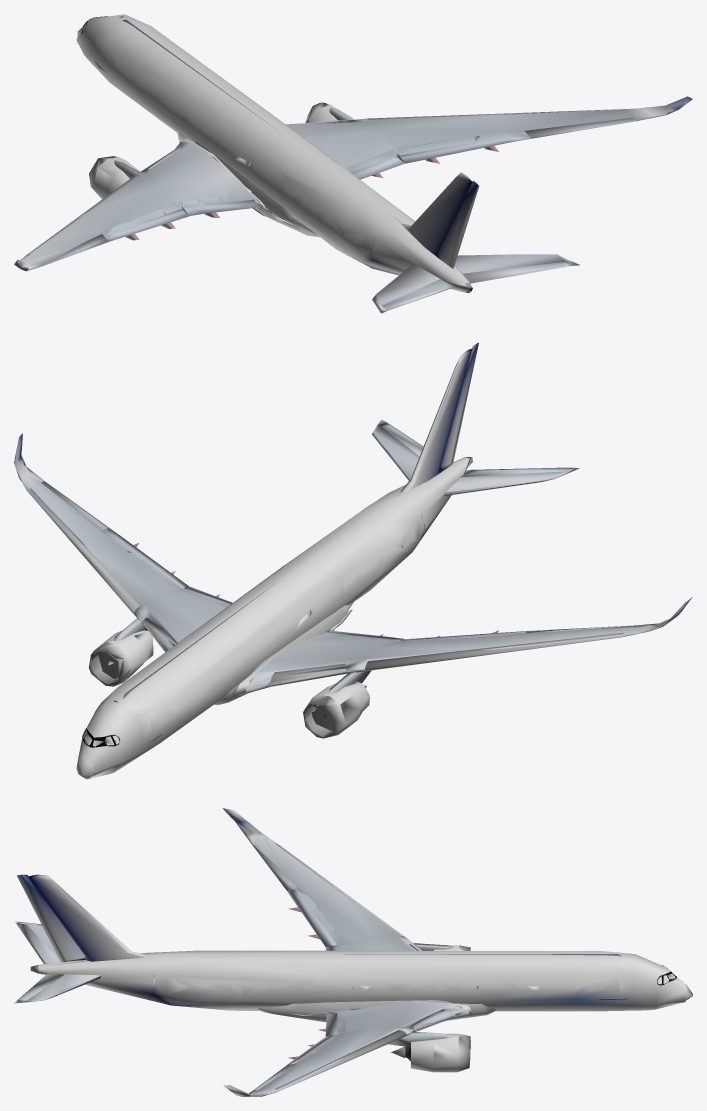
3 views of the same model, one above another, from view 1: azimuth 30°, elevation 25°; view 2: azimuth 150°, elevation 25°; view 3: azimuth 270°, elevation 25° (orthographic). The views are drawn at different scales.
Size of the model in its own units: 64.74 by 16.49 by 66.92.
